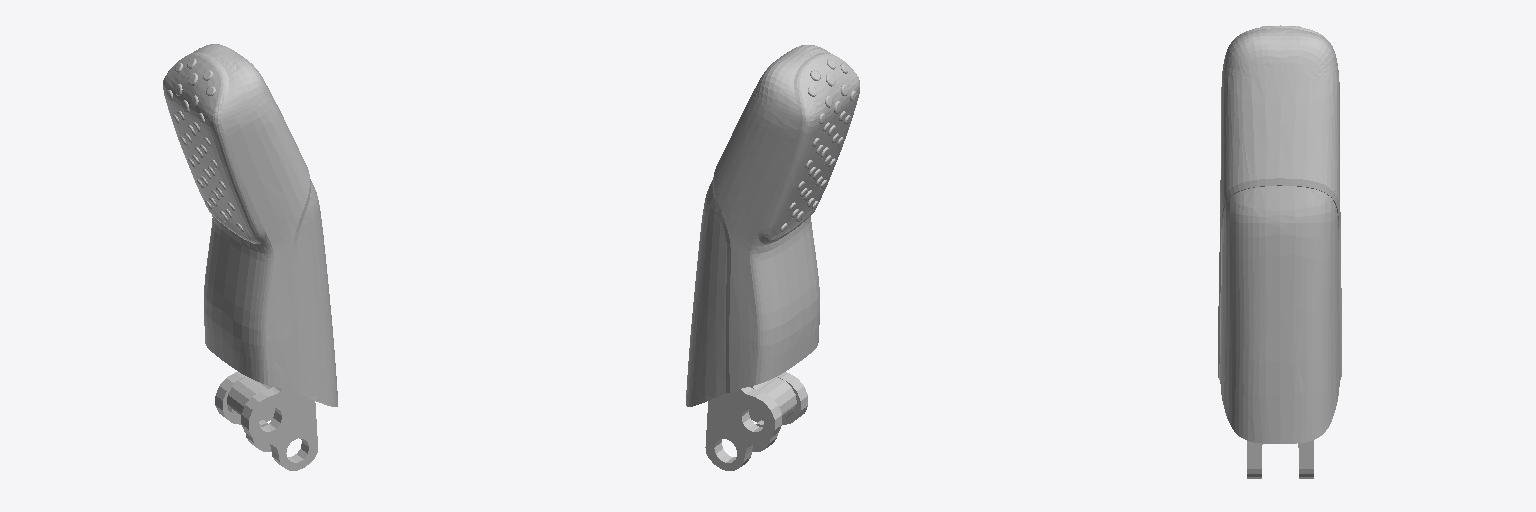
Rendered from right_ring_2_visuals.obj.
3 renders of one model, left to right at view 1: azimuth 30°, elevation 25°; view 2: azimuth 150°, elevation 25°; view 3: azimuth 270°, elevation 25°, orthographic.
Bounding box in the file's own units: 0.0223 × 0.0622 × 0.0168.